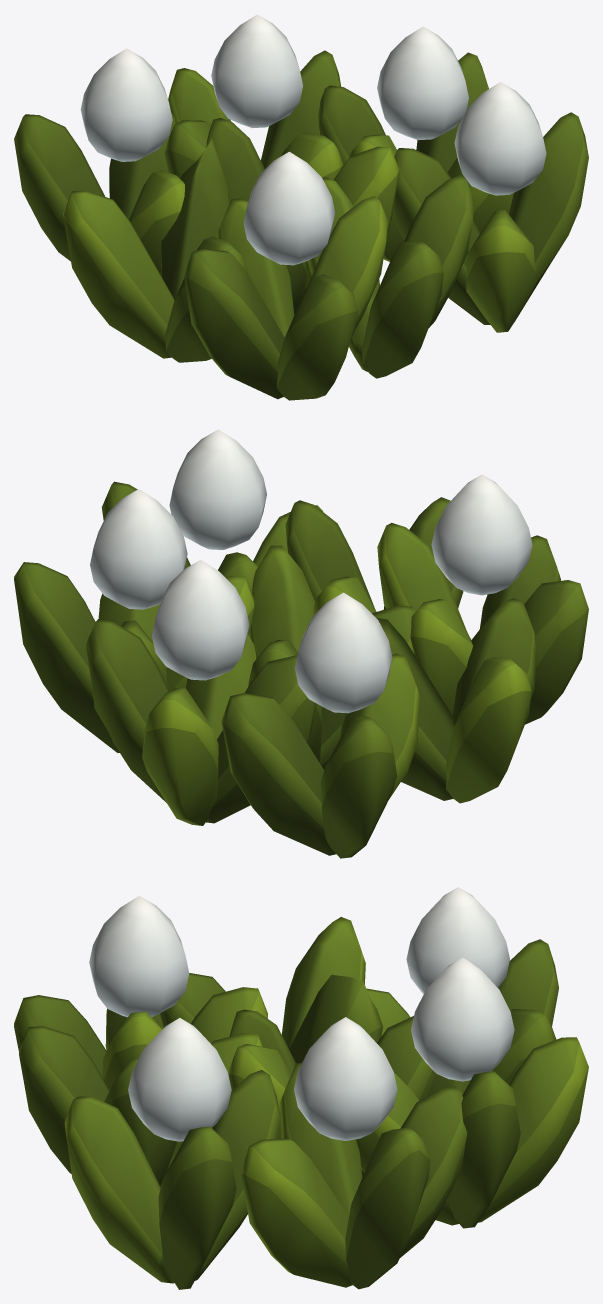
File: grass_tulip_flower_white_LOD_group.fbx
3 views of the same model, one above another, from view 1: azimuth 30°, elevation 25°; view 2: azimuth 150°, elevation 25°; view 3: azimuth 270°, elevation 25° (orthographic). The views are drawn at different scales.
Visible parts, largest first — view 1: grass_tulip_flower_white_LOD0; view 2: grass_tulip_flower_white_LOD0; view 3: grass_tulip_flower_white_LOD0.
Part boxes in pixels (x1,y1,x2,y2): grass_tulip_flower_white_LOD0: [14, 14, 588, 400]; grass_tulip_flower_white_LOD0: [14, 429, 588, 858]; grass_tulip_flower_white_LOD0: [14, 887, 588, 1289].
Size of what is drawn, in the model's own units: 111 by 56.39 by 111.
Materials: 1 (1 with a texture image).
